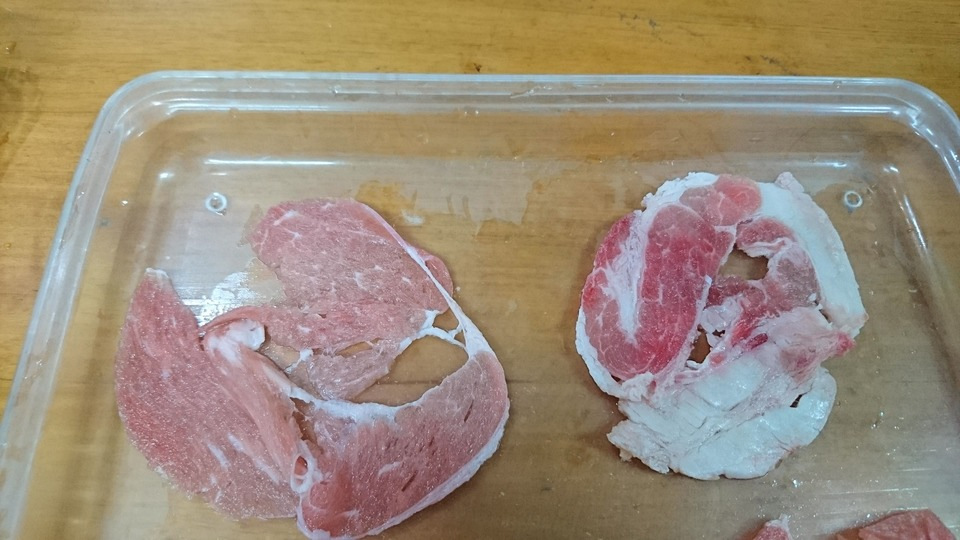restructured meat: (116, 194, 530, 533), (557, 152, 845, 484)
